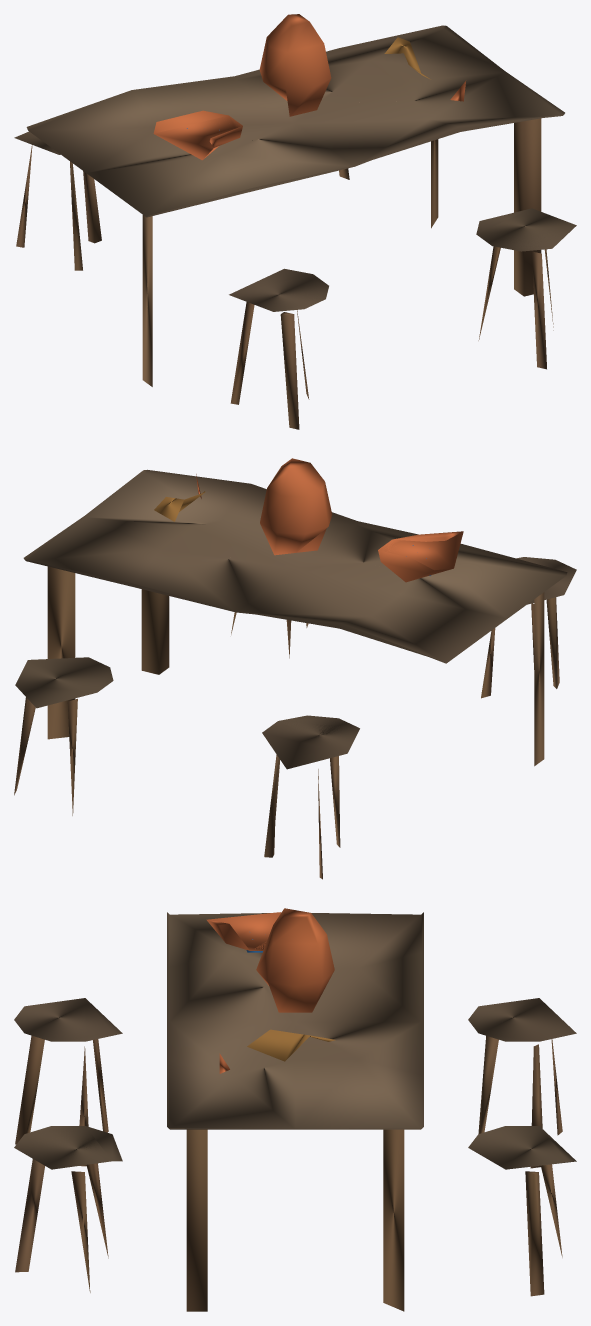
File: decor_dining-set_t1.glb
The picture shows the model from 3 angles, top to bottom: view 1: azimuth 30°, elevation 25°; view 2: azimuth 150°, elevation 25°; view 3: azimuth 270°, elevation 25°; orthographic projection. The views are drawn at different scales.
Parts seen in each view (by area): view 1: wood, wood_dark, terracotta; view 2: wood, wood_dark, terracotta, bread; view 3: wood, wood_dark, terracotta, bread.
Part boxes in pixels (<box>): wood: <box>14,25,576,311</box>; wood_dark: <box>16,118,553,429</box>; terracotta: <box>153,14,466,160</box>; wood: <box>15,469,576,769</box>; wood_dark: <box>14,566,559,879</box>; terracotta: <box>196,458,463,582</box>; bread: <box>154,491,205,521</box>; wood: <box>14,912,576,1169</box>; wood_dark: <box>15,1035,562,1311</box>; terracotta: <box>206,908,334,1073</box>; bread: <box>247,1029,335,1061</box>.
Bounding box in the file's own units: 1.7 × 1.09 × 1.86.
